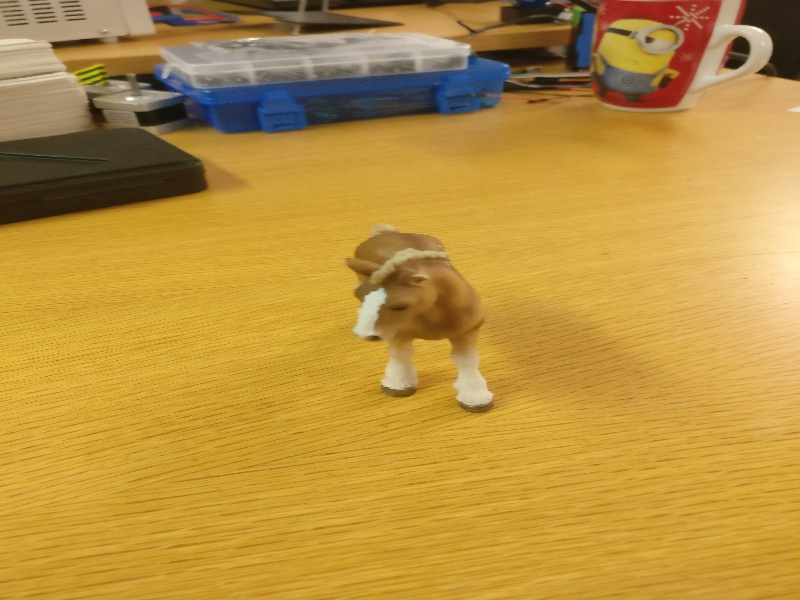toy: (335, 214, 503, 417)
